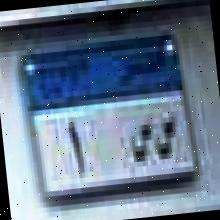1: (64, 118, 88, 178)
seen: (153, 116, 178, 160), (129, 126, 154, 164)
